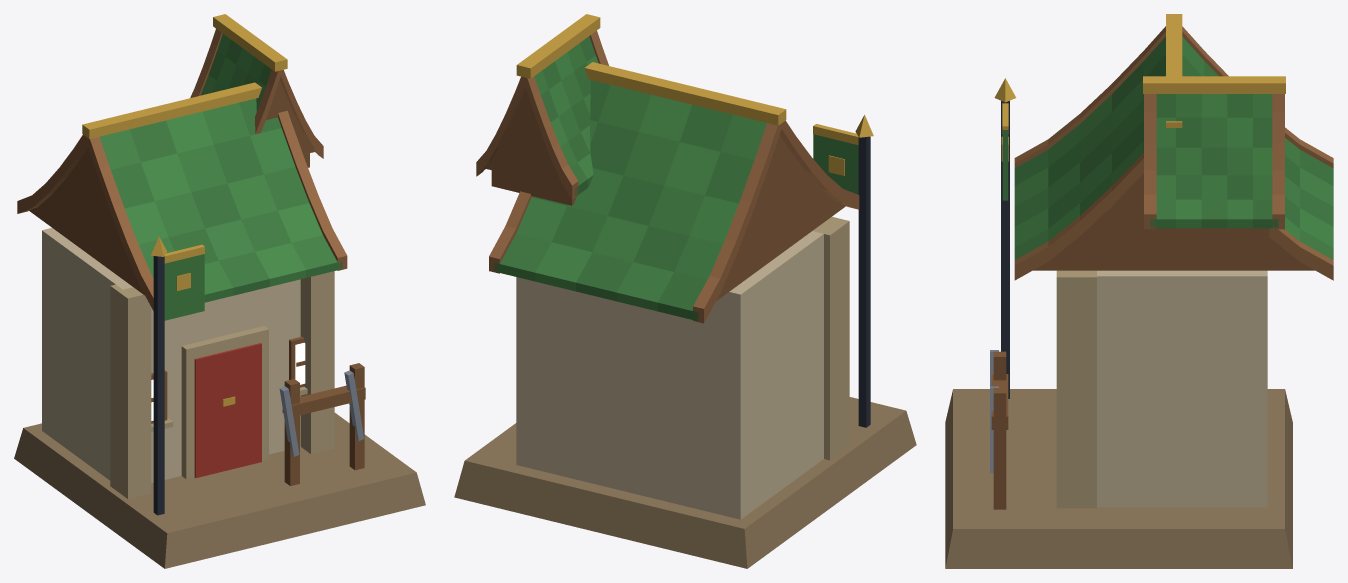
Rendered from camp_ranger_t1.glb.
3 views of the same model, side by side, from view 1: azimuth 30°, elevation 25°; view 2: azimuth 150°, elevation 25°; view 3: azimuth 270°, elevation 25° (orthographic). The views are drawn at different scales.
Visible parts, largest first — view 1: body, glow; view 2: body; view 3: body.
Boxes of the visible parts, x1,y1,x2,y2 form: body: (14, 14, 425, 568); glow: (151, 342, 305, 420); body: (454, 14, 916, 568); body: (945, 14, 1333, 568).
Bounding box in the file's own units: 1.9 × 2.75 × 2.12.
